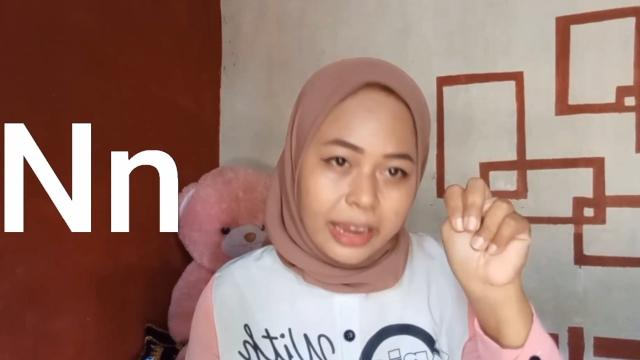N: (436, 176, 532, 286)
